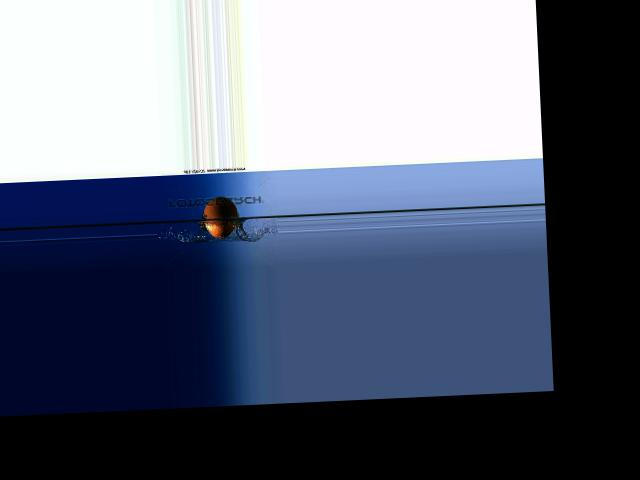egg: (203, 196, 239, 239)
